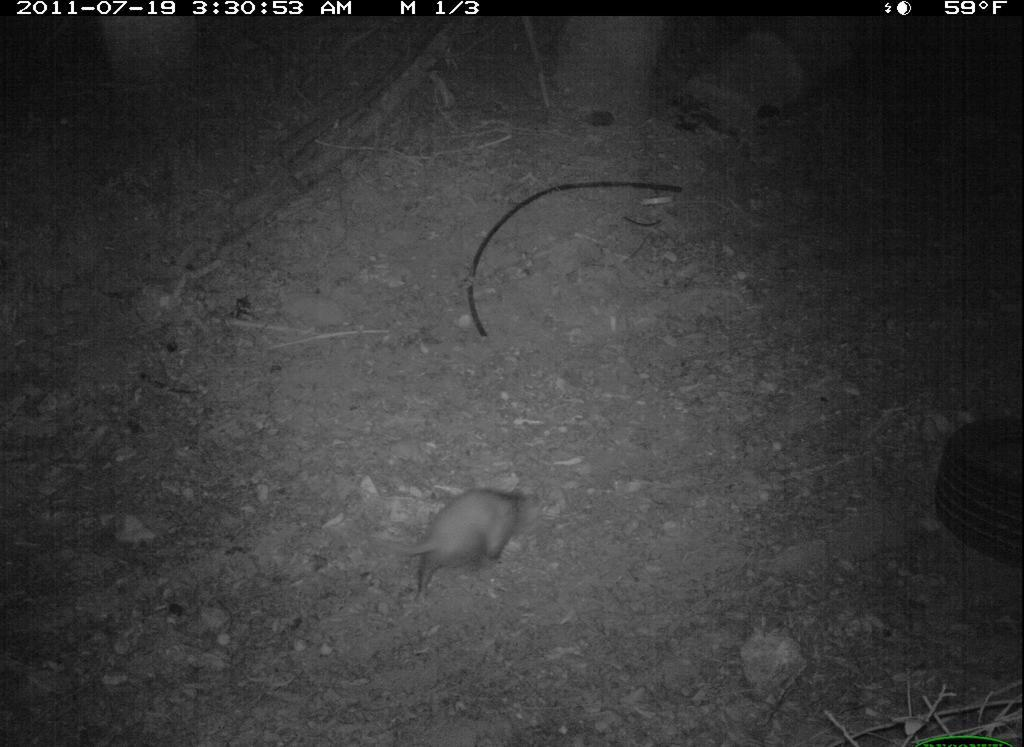opossum: (400, 474, 545, 610)
